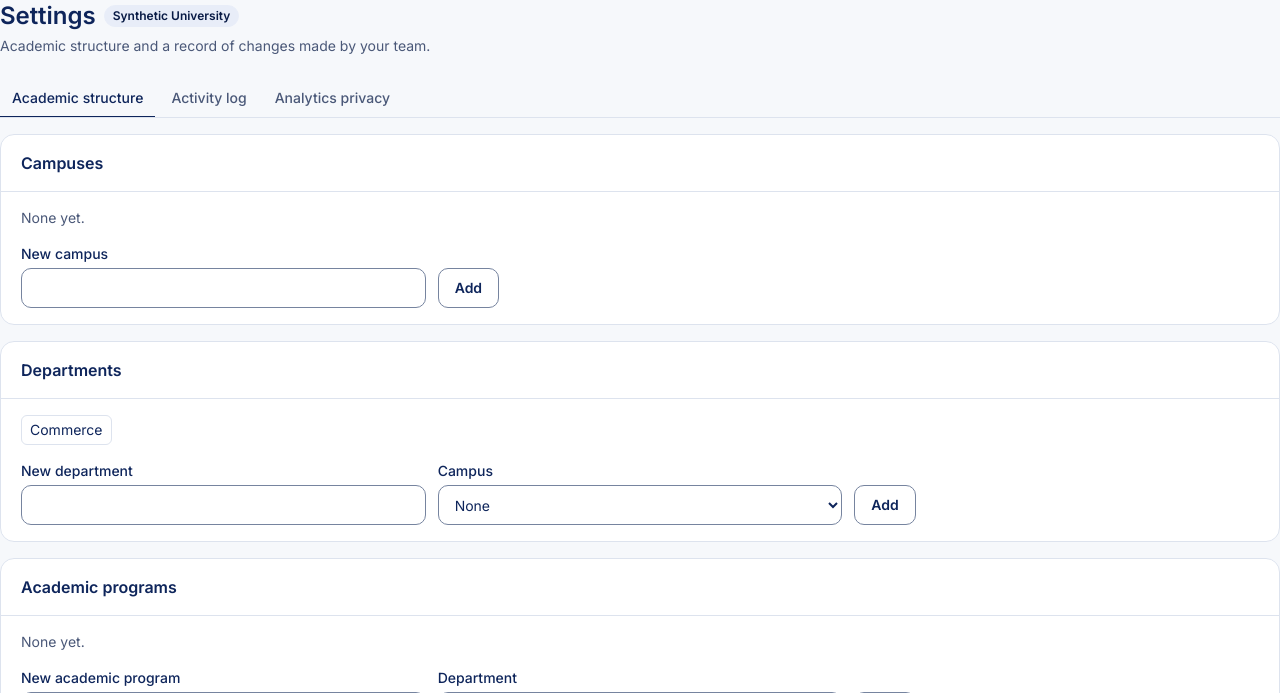
Scenario: Analytics privacy threshold › is read-only for staff who cannot change it (server decides)
What coordinates should you click on to do the following:
click the tab "Analytics privacy"
I would click on:
 (332, 99)
Its box is [263,80,402,118].
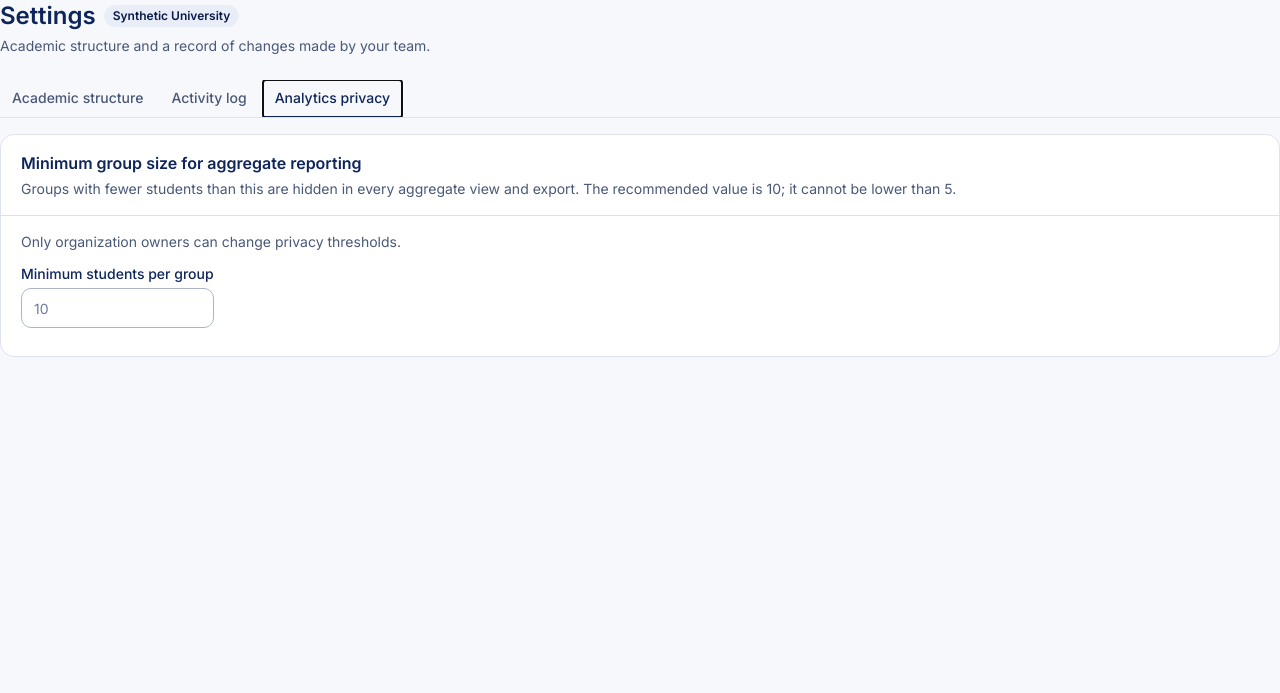
Check: the number field labelled "Minimum students per group" is disabled, box [21,288,214,328]
Check: the text "Only organization owners can change privacy thresholds." is shown, box [21,233,401,250]
